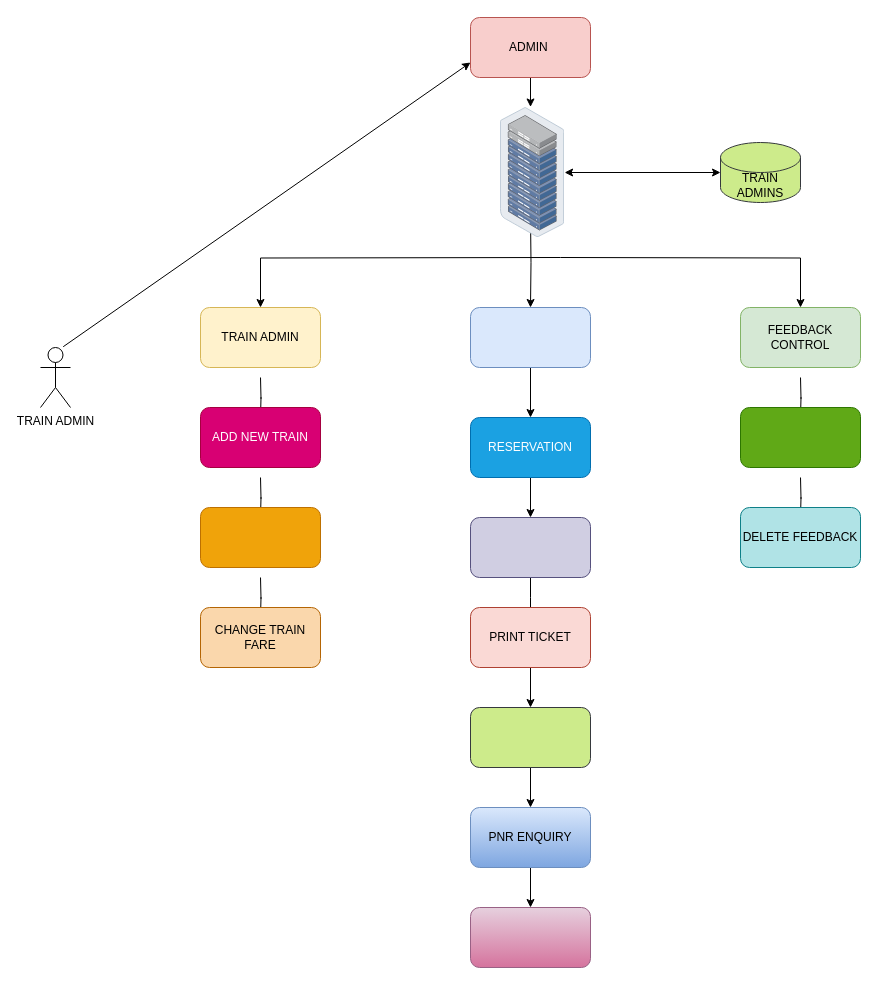
The diagram is 878 pixels wide and 985 high, and some of its shapes have lost their labels. The shapes that lost their labels are listed below. From the top down, each one's box as (x1, y1, x2, y2) in pixels, then its label:
(470, 306, 590, 368): TRAIN TICKET
(740, 406, 860, 468): VIEW FEEDBACK
(200, 506, 320, 568): ADD NEW STATION&FARE
(470, 516, 590, 578): GENERAL TICKET
(470, 706, 590, 768): TRAIN SCHEDULE
(470, 906, 590, 968): TRAIN eNQUIRY
